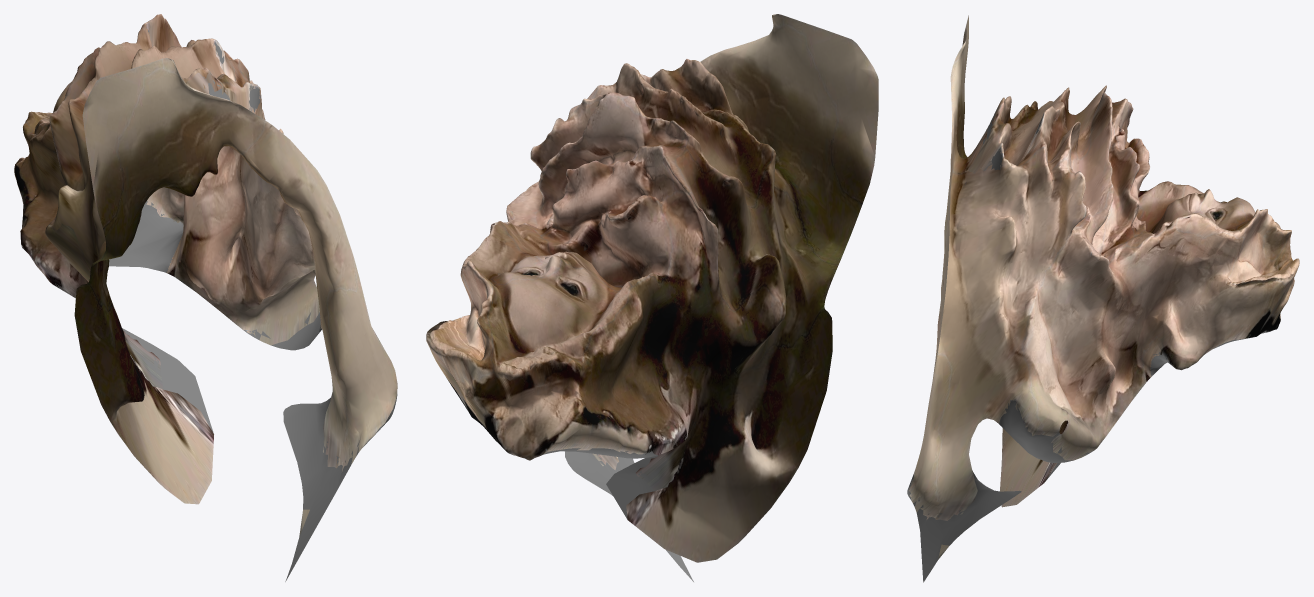
The model's file is pinkel.obj.
3 views of the same model, side by side, from view 1: azimuth 30°, elevation 25°; view 2: azimuth 150°, elevation 25°; view 3: azimuth 270°, elevation 25° (orthographic). The views are drawn at different scales.
Parts seen in each view (by area): view 1: pinkelEye; view 2: pinkelEye; view 3: pinkelEye.
Part boxes in pixels (<box>): pinkelEye: <box>14,14,397,581</box>; pinkelEye: <box>426,14,878,581</box>; pinkelEye: <box>907,15,1299,582</box>.
Bounding box in the file's own units: 15.67 × 26.83 × 19.07.
2 materials, 1 textured.
